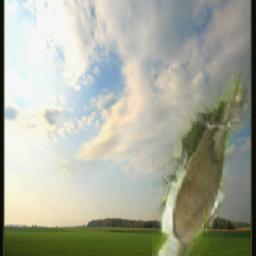Cuckoo: (152, 49, 248, 256)
